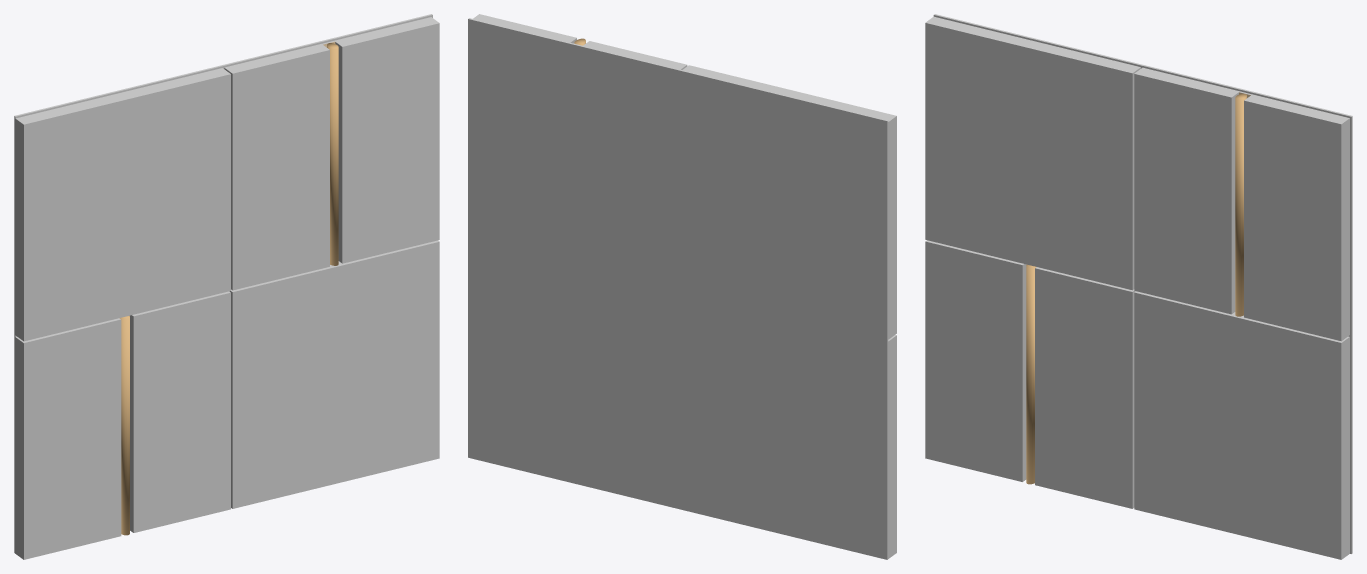
File: pink_wall_c.glb
The picture shows the model from 3 angles, left to right: view 1: azimuth 30°, elevation 25°; view 2: azimuth 150°, elevation 25°; view 3: azimuth 330°, elevation 25°; orthographic projection.
Visible parts, largest first — view 1: Mesh1 Group2 Group1 Tile_2_1 Tile_Array_Set1_2_1 Tile_Array_, Mesh2 Group3 Group1 Tile_2_1 Tile_Array_Set1_2_1 Tile_Array_, Mesh4 Group5 Group1 Tile_2_1 Tile_Array_Set1_2_1 Tile_Array_, Mesh3 Group4 Group1 Tile_2_1 Tile_Array_Set1_2_1 Tile_Array_, Mesh6 Enscape_LinearLight2 Group1 Tile_2_1 Tile_Array_Set1_2, Mesh5 Enscape_LinearLight1 Group1 Tile_2_1 Tile_Array_Set1_2; view 2: Mesh1 Group2 Group1 Tile_2_1 Tile_Array_Set1_2_1 Tile_Array_, Mesh3 Group4 Group1 Tile_2_1 Tile_Array_Set1_2_1 Tile_Array_, Mesh2 Group3 Group1 Tile_2_1 Tile_Array_Set1_2_1 Tile_Array_, Mesh4 Group5 Group1 Tile_2_1 Tile_Array_Set1_2_1 Tile_Array_; view 3: Mesh2 Group3 Group1 Tile_2_1 Tile_Array_Set1_2_1 Tile_Array_, Mesh4 Group5 Group1 Tile_2_1 Tile_Array_Set1_2_1 Tile_Array_, Mesh1 Group2 Group1 Tile_2_1 Tile_Array_Set1_2_1 Tile_Array_, Mesh3 Group4 Group1 Tile_2_1 Tile_Array_Set1_2_1 Tile_Array_, Mesh6 Enscape_LinearLight2 Group1 Tile_2_1 Tile_Array_Set1_2, Mesh5 Enscape_LinearLight1 Group1 Tile_2_1 Tile_Array_Set1_2.
Boxes of the visible parts, x1=… form: Mesh1 Group2 Group1 Tile_2_1 Tile_Array_Set1_2_1 Tile_Array_: x1=14, y1=65, x2=230, y2=341; Mesh2 Group3 Group1 Tile_2_1 Tile_Array_Set1_2_1 Tile_Array_: x1=223, y1=14, x2=439, y2=290; Mesh4 Group5 Group1 Tile_2_1 Tile_Array_Set1_2_1 Tile_Array_: x1=229, y1=240, x2=439, y2=508; Mesh3 Group4 Group1 Tile_2_1 Tile_Array_Set1_2_1 Tile_Array_: x1=14, y1=291, x2=230, y2=559; Mesh6 Enscape_LinearLight2 Group1 Tile_2_1 Tile_Array_Set1_2: x1=327, y1=43, x2=338, y2=265; Mesh5 Enscape_LinearLight1 Group1 Tile_2_1 Tile_Array_Set1_2: x1=119, y1=315, x2=129, y2=535; Mesh1 Group2 Group1 Tile_2_1 Tile_Array_Set1_2_1 Tile_Array_: x1=677, y1=65, x2=896, y2=340; Mesh3 Group4 Group1 Tile_2_1 Tile_Array_Set1_2_1 Tile_Array_: x1=677, y1=289, x2=896, y2=559; Mesh2 Group3 Group1 Tile_2_1 Tile_Array_Set1_2_1 Tile_Array_: x1=468, y1=14, x2=687, y2=289; Mesh4 Group5 Group1 Tile_2_1 Tile_Array_Set1_2_1 Tile_Array_: x1=468, y1=238, x2=677, y2=508; Mesh2 Group3 Group1 Tile_2_1 Tile_Array_Set1_2_1 Tile_Array_: x1=1134, y1=65, x2=1352, y2=341; Mesh4 Group5 Group1 Tile_2_1 Tile_Array_Set1_2_1 Tile_Array_: x1=1134, y1=291, x2=1352, y2=559; Mesh1 Group2 Group1 Tile_2_1 Tile_Array_Set1_2_1 Tile_Array_: x1=925, y1=14, x2=1143, y2=290; Mesh3 Group4 Group1 Tile_2_1 Tile_Array_Set1_2_1 Tile_Array_: x1=925, y1=240, x2=1135, y2=508; Mesh6 Enscape_LinearLight2 Group1 Tile_2_1 Tile_Array_Set1_2: x1=1235, y1=93, x2=1246, y2=316; Mesh5 Enscape_LinearLight1 Group1 Tile_2_1 Tile_Array_Set1_2: x1=1026, y1=264, x2=1036, y2=484.
Size of the model in its own units: 100 by 100 by 4.32.
